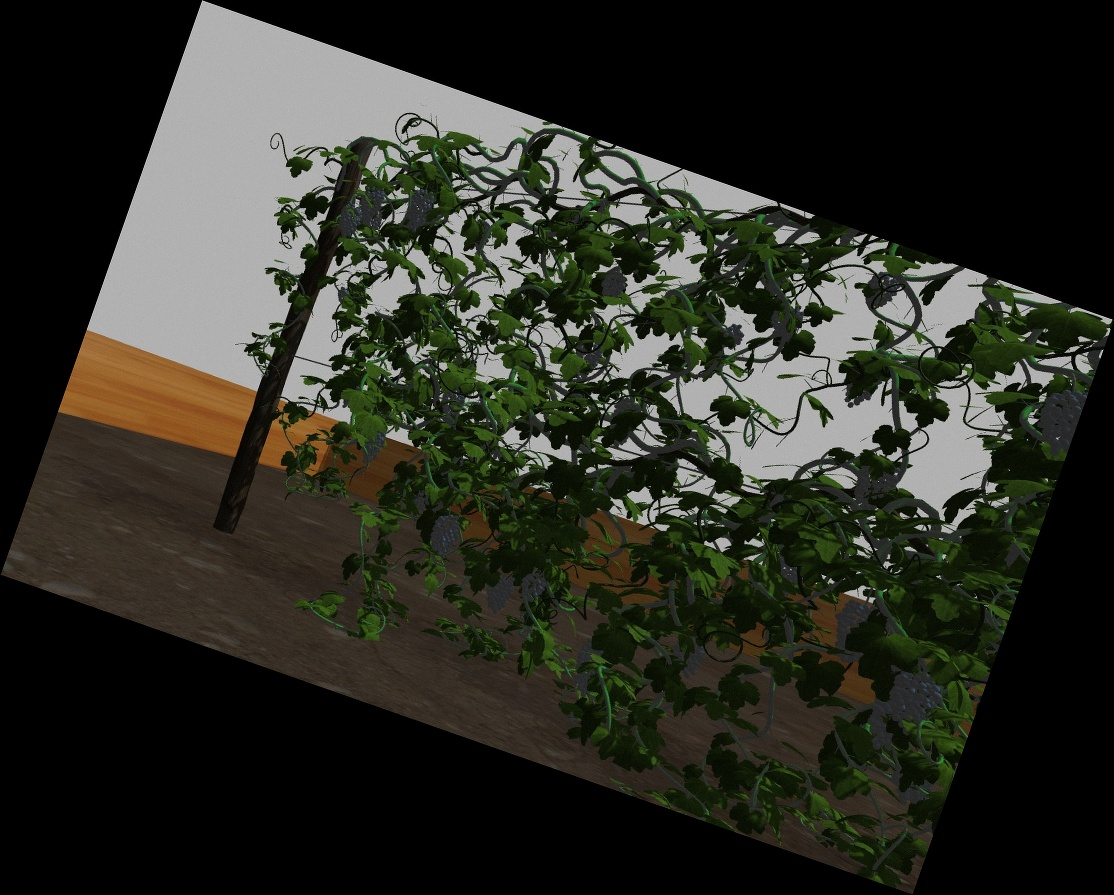grape: (891, 672, 938, 726), (832, 599, 873, 659), (1039, 388, 1077, 447), (854, 462, 894, 508), (866, 703, 899, 750), (573, 638, 600, 695), (431, 513, 460, 557), (670, 637, 704, 674), (485, 569, 512, 613), (867, 271, 897, 308), (408, 188, 432, 233), (359, 183, 382, 220), (520, 572, 546, 604), (719, 320, 745, 350), (337, 206, 360, 238), (362, 432, 384, 463), (602, 271, 626, 297)
